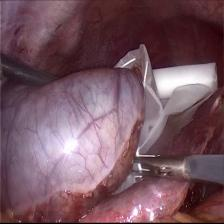Grasper: (128, 151, 190, 184)
Specimen Bag: (112, 43, 224, 156)
